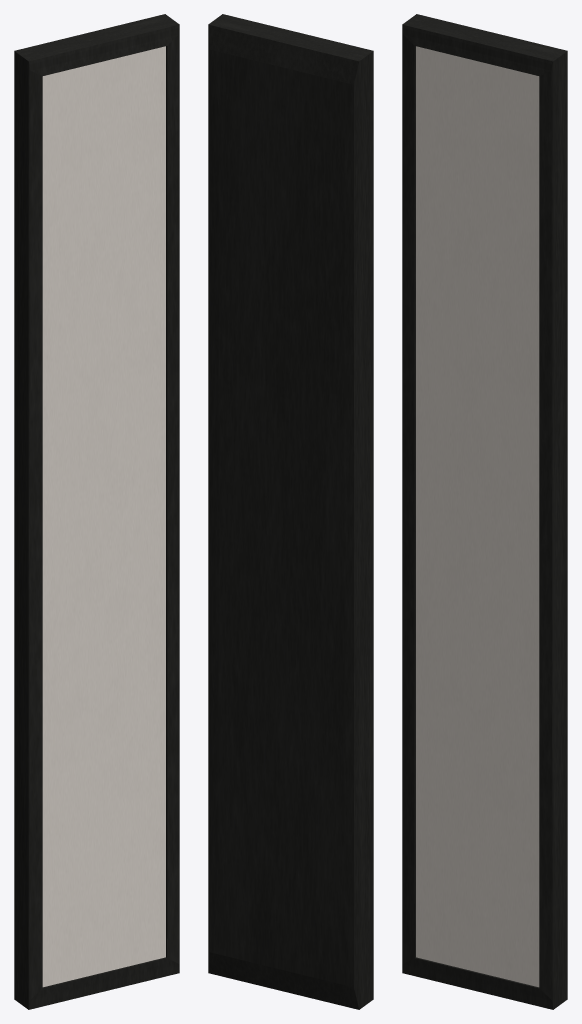
The model's file is inside_light.fbx.
The picture shows the model from 3 angles, left to right: view 1: azimuth 30°, elevation 25°; view 2: azimuth 150°, elevation 25°; view 3: azimuth 330°, elevation 25°; orthographic projection.
Parts seen in each view (by area): view 1: inside_light_asset; view 2: inside_light_asset; view 3: inside_light_asset.
Part boxes in pixels (<box>): inside_light_asset: <box>14,14,179,1009</box>; inside_light_asset: <box>208,14,373,1009</box>; inside_light_asset: <box>402,14,567,1009</box>.
Size of the model in its own units: 50 by 300 by 10.
